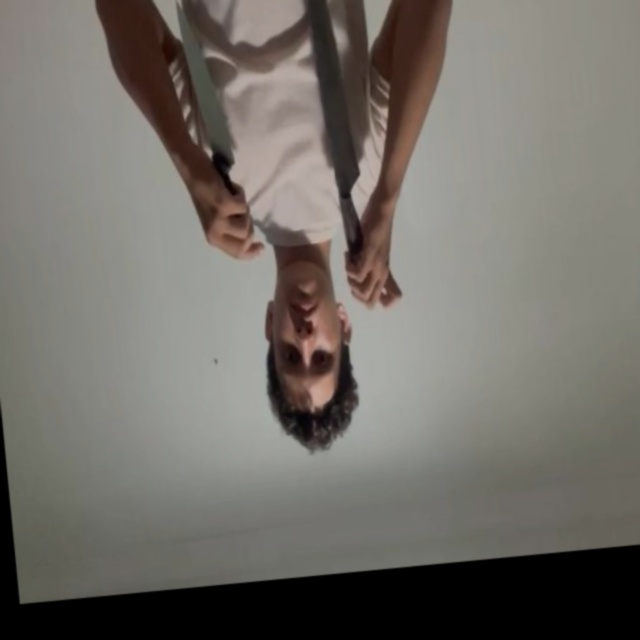Sharp-Object: (307, 0, 361, 192), (176, 0, 235, 173)
